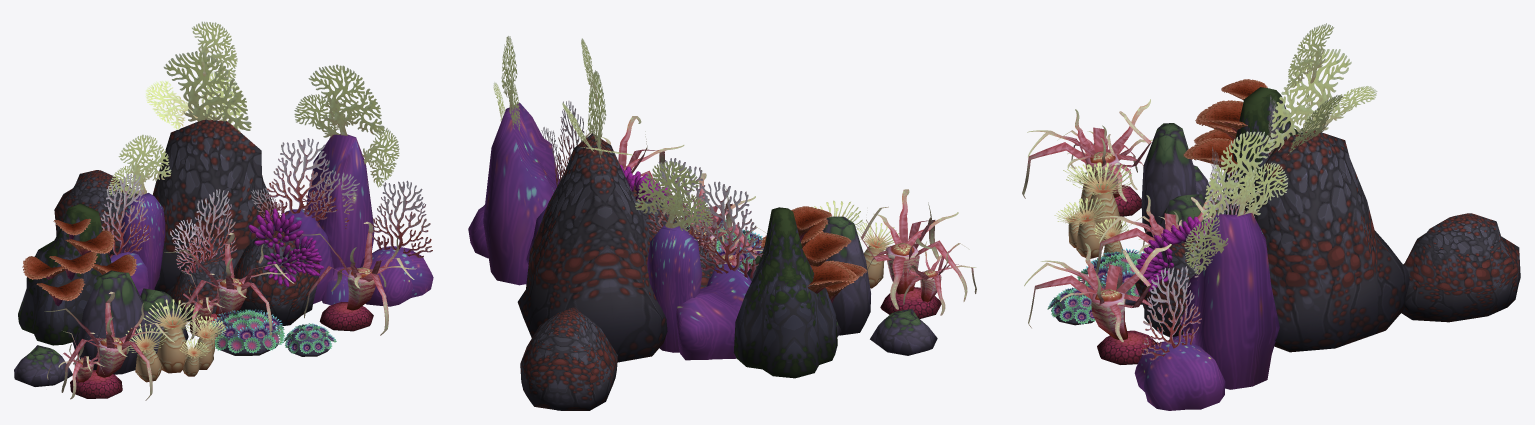
File: CoralSet_19.FBX
3 renders of one model, left to right at view 1: azimuth 30°, elevation 25°; view 2: azimuth 150°, elevation 25°; view 3: azimuth 270°, elevation 25°, orthographic. The views are drawn at different scales.
Parts seen in each view (by area): view 1: Rock_03_Group005, DimRock_Purple_011, Rock_01_Group002, Coral_03a019, Rock_04a002, Coral_33_Group001, Coral_03a018, Coral_03b004, DimRock_Purple_010, Coral_16c001, Coral_112, Coral_099 (+20 smaller); view 2: Rock_03_Group005, Rock_04a002, DimRock_Purple_011, DimRock_Purple_010, Rock_01_Group002, Coral_099, Coral_03a017, Coral_03a014, Coral_03a019, Coral_33_Group001, Coral_107, Coral_03a015 (+11 smaller); view 3: Rock_03_Group005, DimRock_Purple_011, Coral_03a019, Rock_01_Group002, Coral_33_Group001, Coral_112, Coral_03a018, Coral_099, Rock_04a002, Coral_03a020, Coral_110, Coral_111 (+11 smaller).
Part boxes in pixels (x1,y1,x2,y2): Rock_03_Group005: (54, 119, 320, 326); DimRock_Purple_011: (273, 134, 433, 306); Rock_01_Group002: (14, 270, 188, 386); Coral_03a019: (145, 21, 251, 132); Rock_04a002: (18, 203, 111, 345); Coral_33_Group001: (125, 299, 226, 382); Coral_03a018: (294, 64, 384, 138); Coral_03b004: (251, 138, 359, 228); DimRock_Purple_010: (109, 193, 165, 295); Coral_16c001: (210, 309, 284, 355); Coral_112: (302, 221, 416, 335); Coral_099: (44, 291, 174, 400); Rock_03_Group005: (517, 133, 716, 410); Rock_04a002: (733, 207, 837, 378); DimRock_Purple_011: (468, 102, 559, 285); DimRock_Purple_010: (647, 224, 751, 360); Rock_01_Group002: (747, 216, 937, 355); Coral_099: (860, 189, 967, 309); Coral_03a017: (635, 161, 712, 231); Coral_03a014: (692, 181, 763, 278); Coral_03a019: (562, 38, 633, 158); Coral_33_Group001: (811, 200, 899, 288); Coral_107: (903, 241, 976, 315); Coral_03a015: (648, 158, 716, 247); Rock_03_Group005: (1135, 130, 1520, 352); DimRock_Purple_011: (1134, 213, 1279, 410); Coral_03a019: (1268, 23, 1377, 155); Rock_01_Group002: (1141, 123, 1225, 249); Coral_33_Group001: (1054, 162, 1132, 258); Coral_112: (1024, 243, 1171, 342); Coral_03a018: (1202, 131, 1288, 219); Coral_099: (1022, 99, 1151, 201); Rock_04a002: (1223, 87, 1301, 214); Coral_03a020: (1141, 266, 1201, 360); Coral_110: (1095, 186, 1221, 275); Coral_111: (1097, 330, 1156, 364).
Size of the model in its own units: 289 by 177 by 263.
